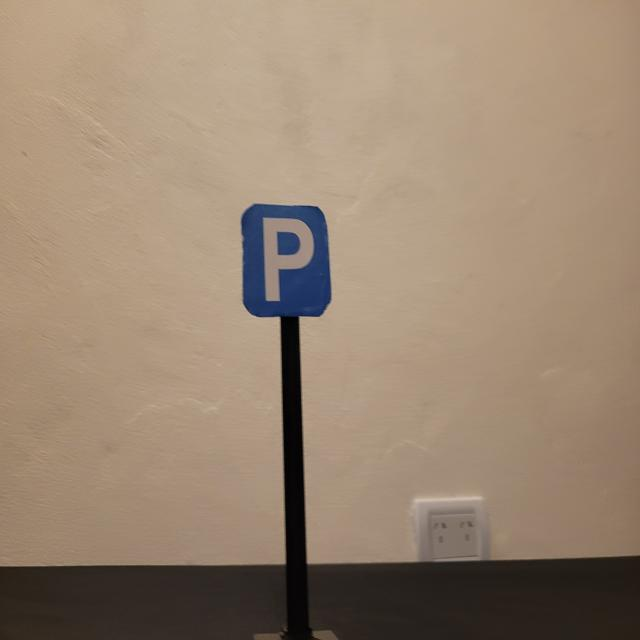parking: (242, 203, 332, 316)
